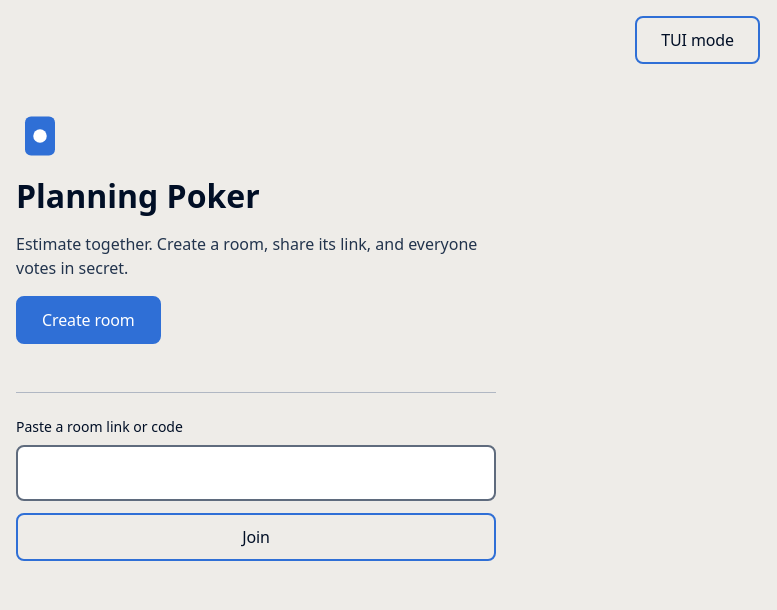
Test case: landing page › Join shows an inline error for too short and stays on the landing page
The width and height of the screenshot is (777, 610).
Type "abc" into the field labelled "Paste a room link or code" at coordinates (256, 473), box [16,445,496,501]
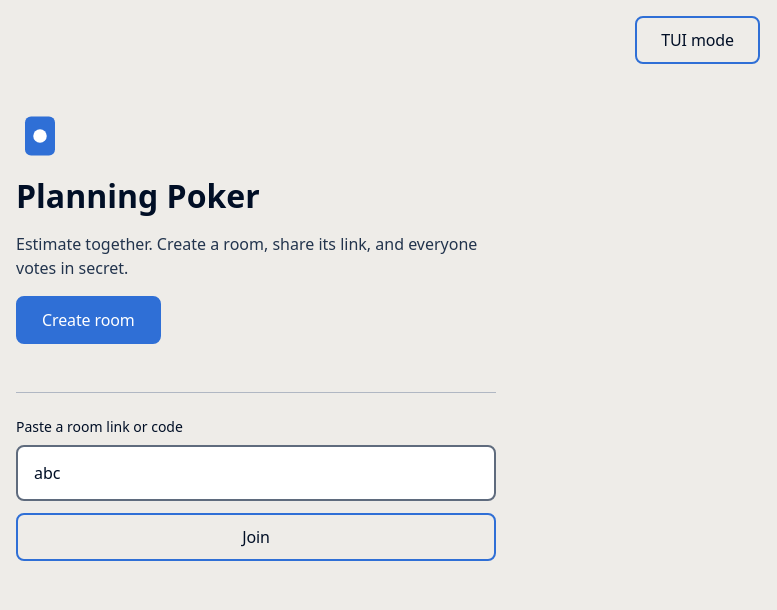
Click the button "Join" at coordinates (256, 537), box [16,513,496,561]
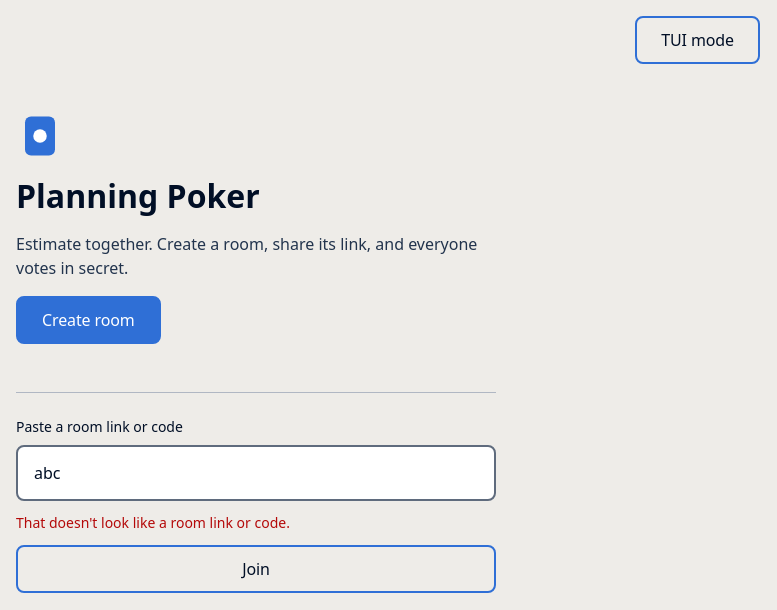
Check: the message shows "room link or code", box [16,513,290,532]
# Typing again clears the error.
Replace the text in the field labelled "Paste a room link or code" with "x" at coordinates (256, 473), box [16,445,496,501]
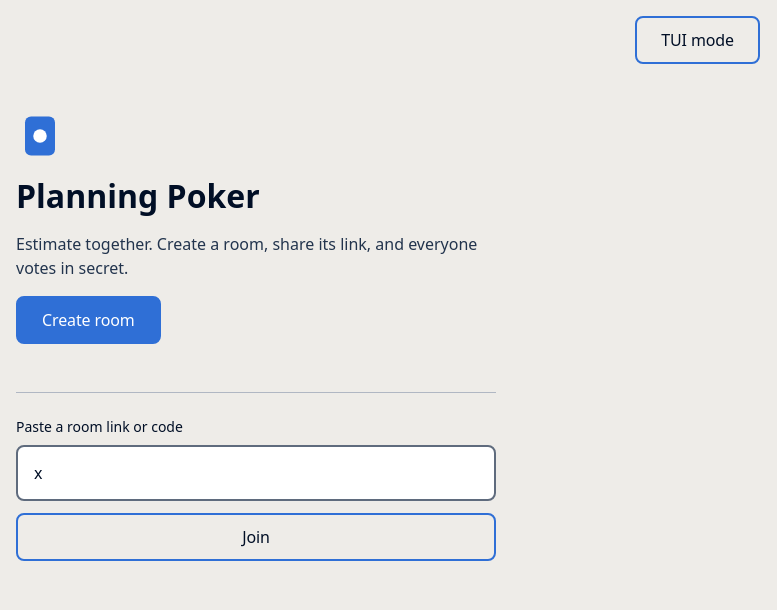
Check: the message "That doesn't look like a room link or code." is gone
